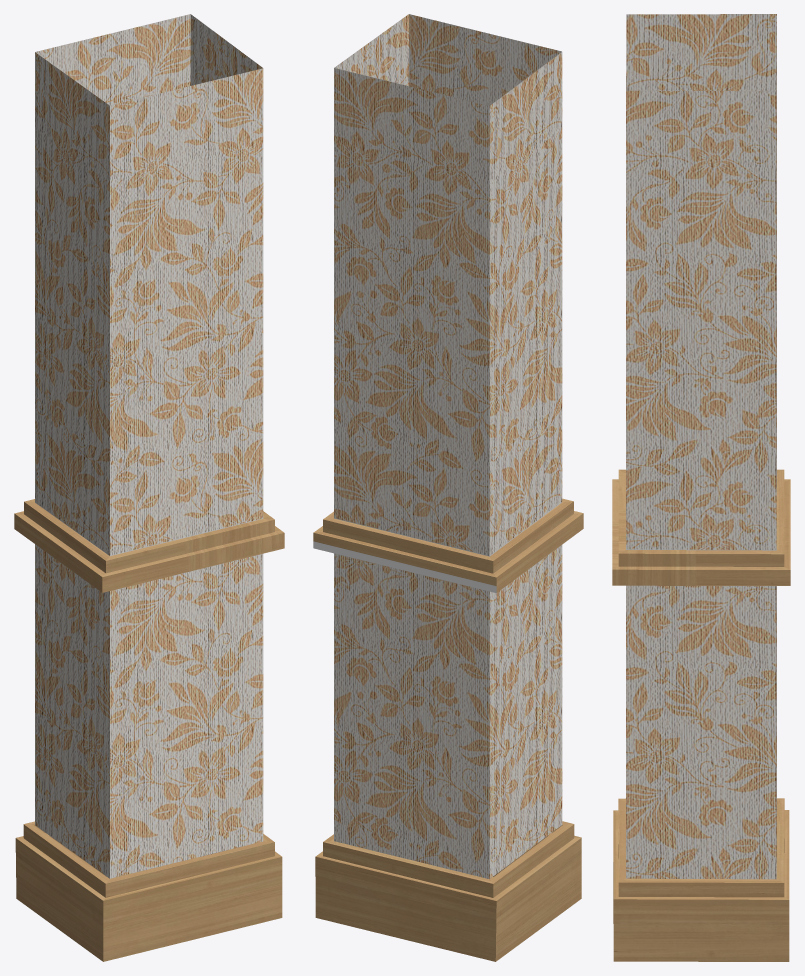
Rendered from Coluna.fbx.
The picture shows the model from 3 angles, left to right: view 1: azimuth 30°, elevation 25°; view 2: azimuth 150°, elevation 25°; view 3: azimuth 270°, elevation 25°; orthographic projection.
Visible parts, largest first — view 1: parque_CS.045; view 2: parque_CS.045; view 3: parque_CS.045.
Boxes of the visible parts, x1=… form: parque_CS.045: x1=14, y1=14, x2=284, y2=961; parque_CS.045: x1=313, y1=14, x2=583, y2=961; parque_CS.045: x1=612, y1=14, x2=790, y2=961.
Size of the model in its own units: 70.96 by 314 by 58.79.
